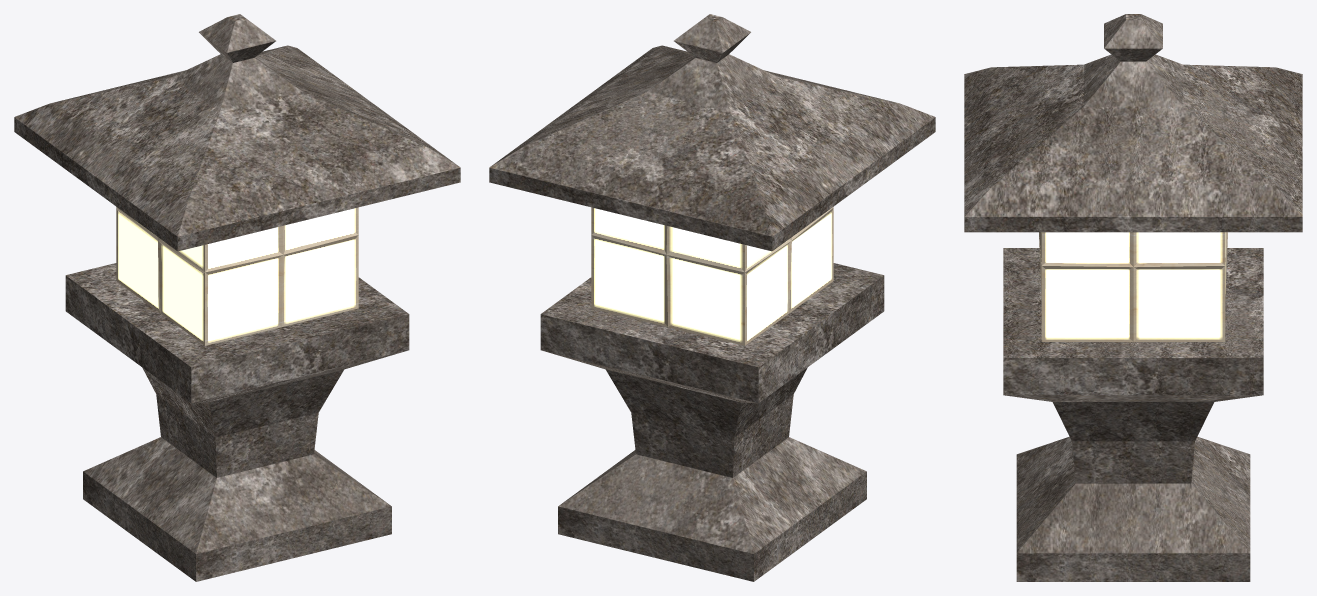
Rendered from NNJ0310028.fbx.
3 views of the same model, side by side, from view 1: azimuth 30°, elevation 25°; view 2: azimuth 150°, elevation 25°; view 3: azimuth 270°, elevation 25° (orthographic). The views are drawn at different scales.
Visible parts, largest first — view 1: smNNJ0310028; view 2: smNNJ0310028; view 3: smNNJ0310028.
Boxes of the visible parts, <box> form: smNNJ0310028: <box>14,14,460,581</box>; smNNJ0310028: <box>489,14,935,581</box>; smNNJ0310028: <box>964,14,1302,581</box>.
Bounding box in the file's own units: 144 × 242 × 144.
1 material, 1 textured.
